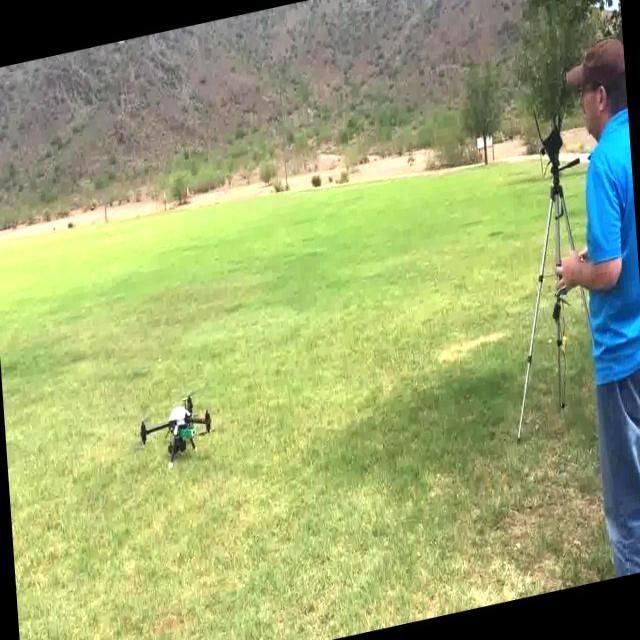drone: (137, 386, 225, 476)
